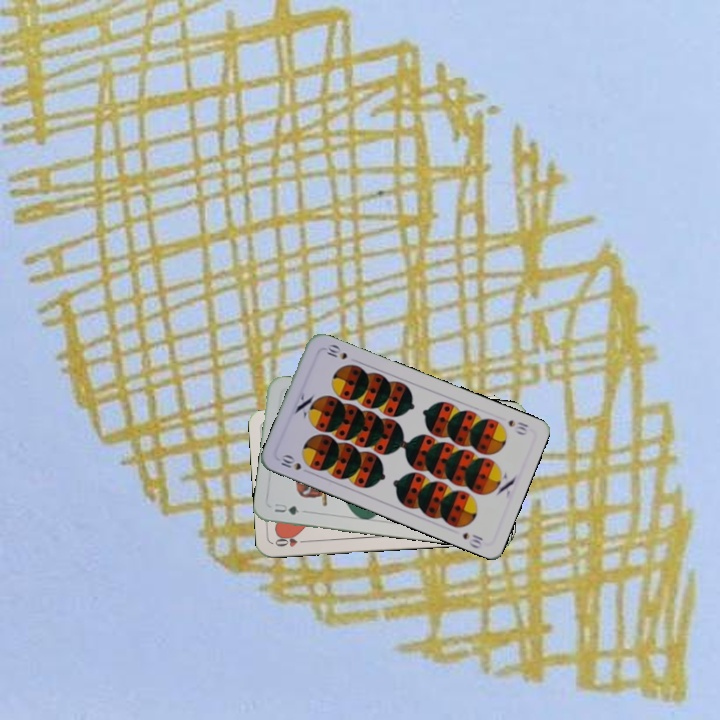GU: (270, 499, 302, 517)
HO: (271, 532, 311, 549)
S10: (275, 451, 313, 476), (504, 416, 531, 438)
